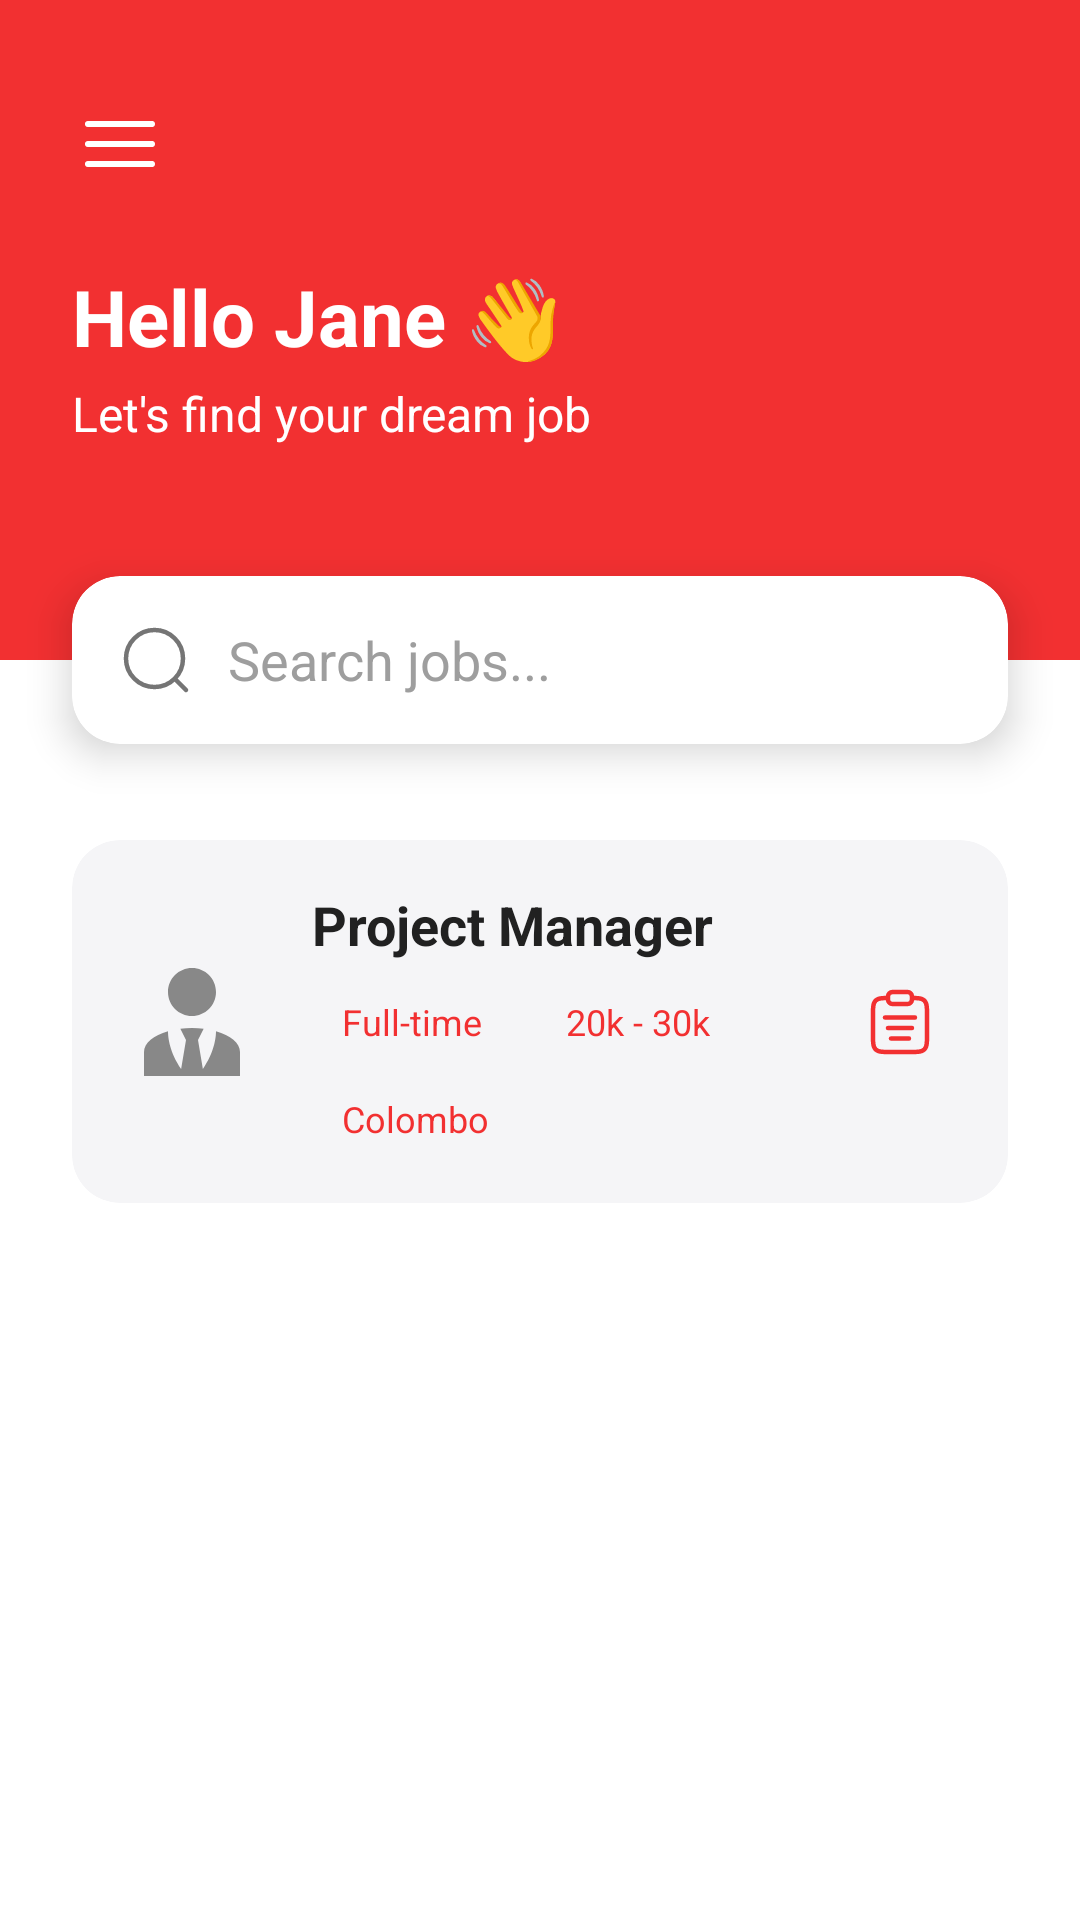

Icon bounding boxes for this 1080 x 1920 phone screenshot, format (left=x1, top=y1, right=x2, bottom=y2):
Hamburger Menu: (left=85, top=121, right=155, bottom=167)
User Image: (left=144, top=968, right=240, bottom=1076)
